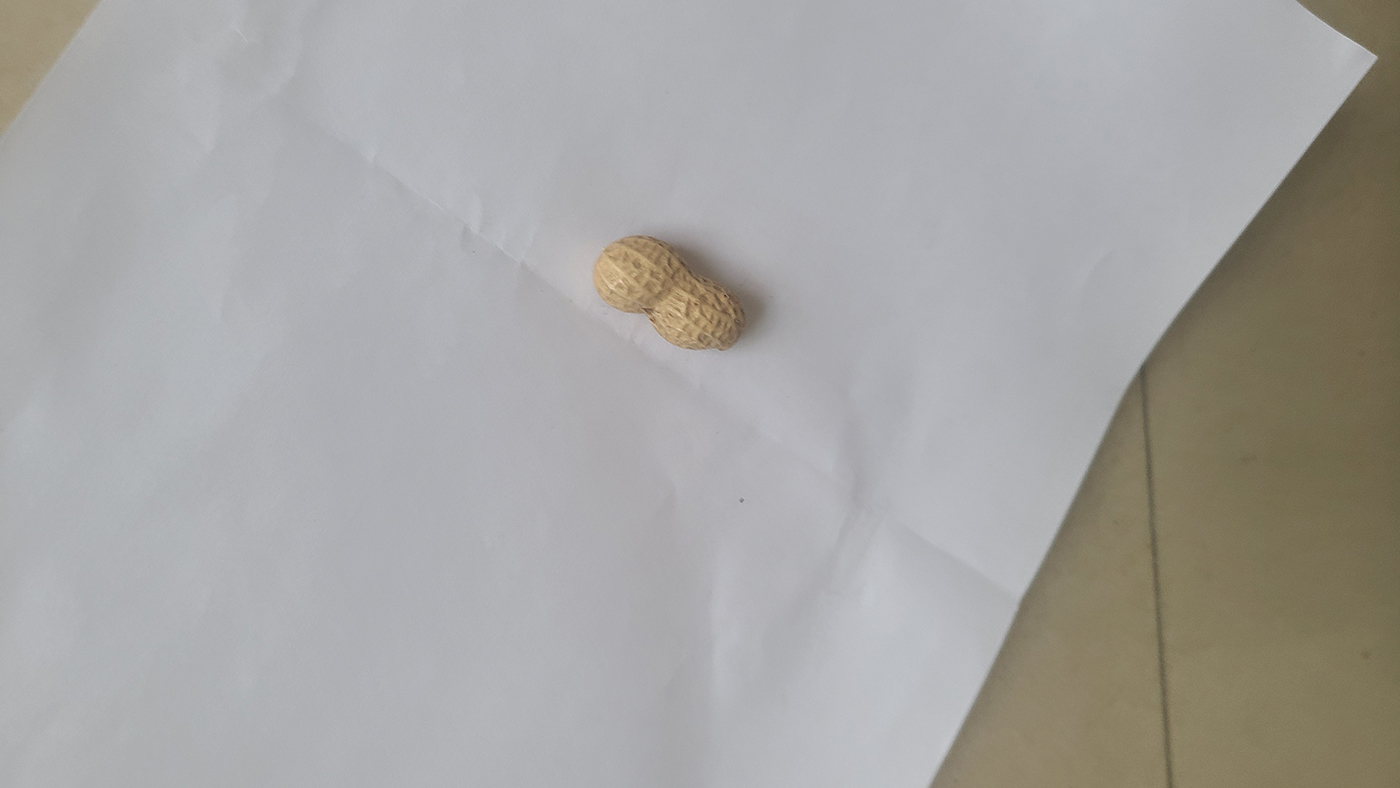h: (592, 233, 746, 350)
